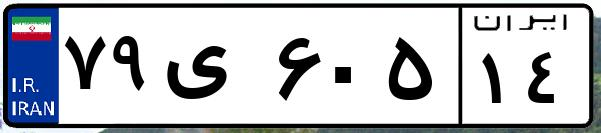0: (330, 28, 385, 110)
1: (475, 38, 525, 113)
4: (525, 38, 570, 115)
5: (385, 28, 445, 110)
6: (270, 28, 330, 110)
7: (57, 26, 110, 100)
9: (110, 28, 158, 98)
ی: (158, 20, 270, 120)
